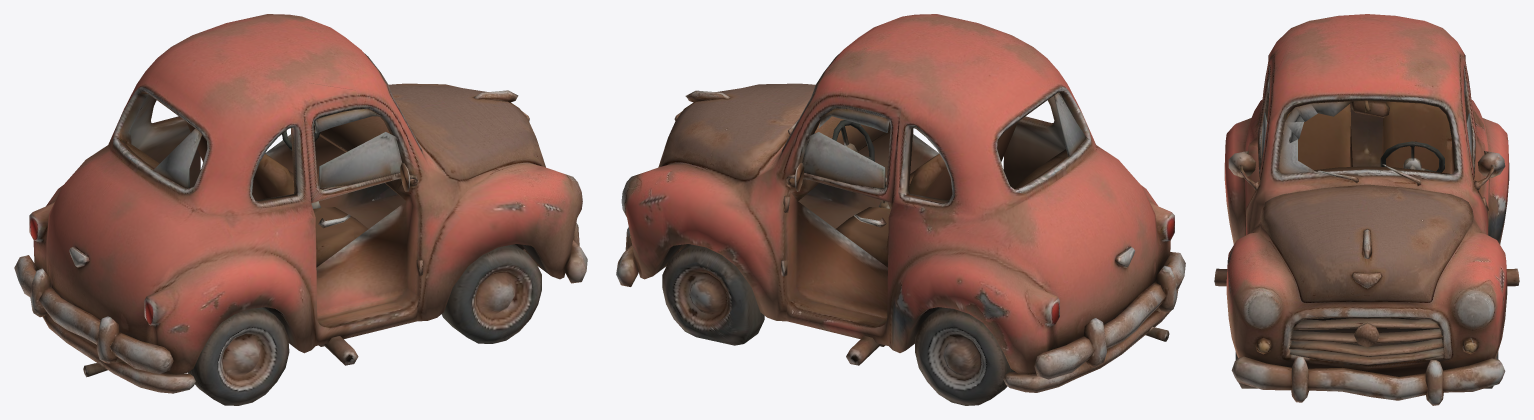
File: tripo_convert_ccdd0712-fe44-4b9d-8d72-71849508365e.fbx
3 views of the same model, side by side, from view 1: azimuth 30°, elevation 25°; view 2: azimuth 150°, elevation 25°; view 3: azimuth 270°, elevation 25° (orthographic). The views are drawn at different scales.
Parts seen in each view (by area): view 1: tripo_node_ccdd0712; view 2: tripo_node_ccdd0712; view 3: tripo_node_ccdd0712.
Part boxes in pixels (x1,y1,x2,y2): tripo_node_ccdd0712: [14, 14, 587, 405]; tripo_node_ccdd0712: [616, 14, 1185, 405]; tripo_node_ccdd0712: [1214, 14, 1519, 405].
Bounding box in the file's own units: 0.998 × 0.5801 × 0.584.
1 material, 1 textured.
